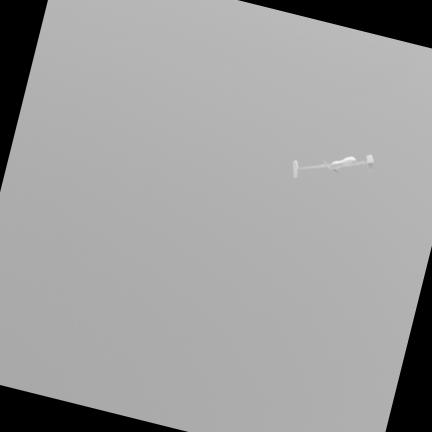Shahed: (292, 154, 373, 175)
